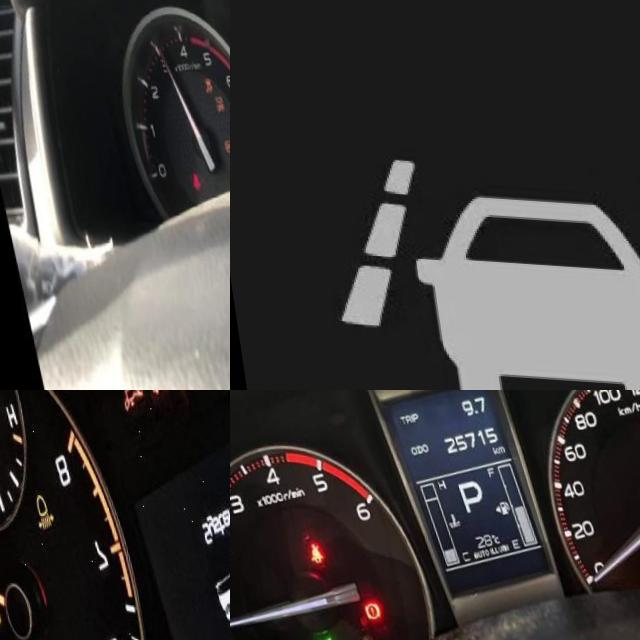Seat Belt: (293, 537, 312, 564), (179, 168, 190, 189)
